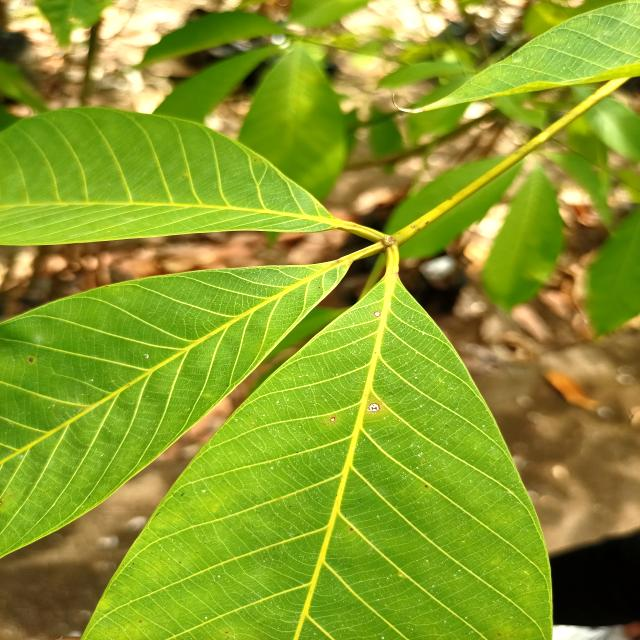Colletotrichum: (368, 403, 380, 412), (330, 418, 336, 422), (374, 312, 380, 316)
